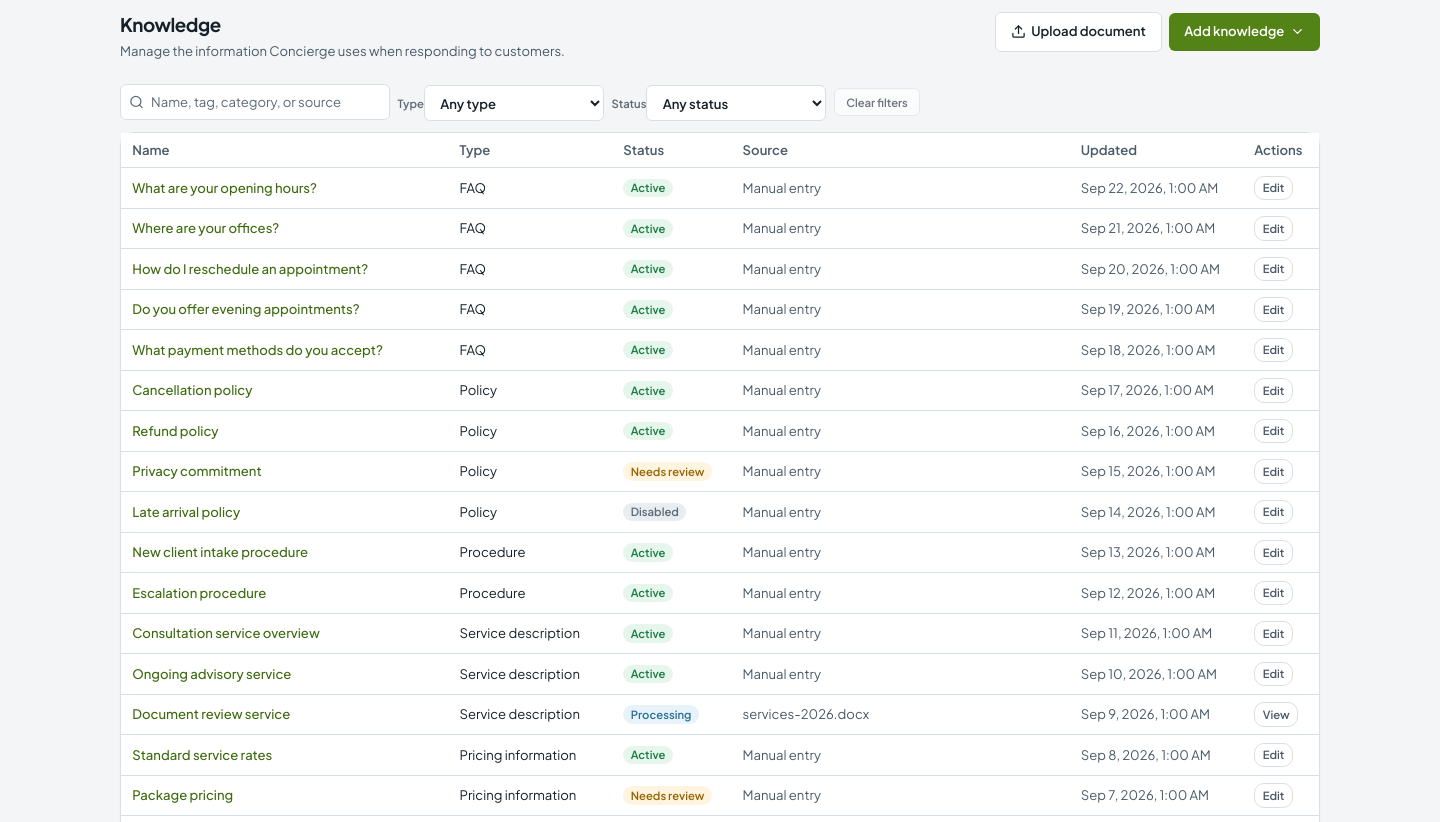
Test: KnowledgePage › narrows the list when a filter is applied
Select "Policy" in the dropdown labelled "Type" at {"x": 514, "y": 103}, box x1=424 y1=85 x2=604 y2=121
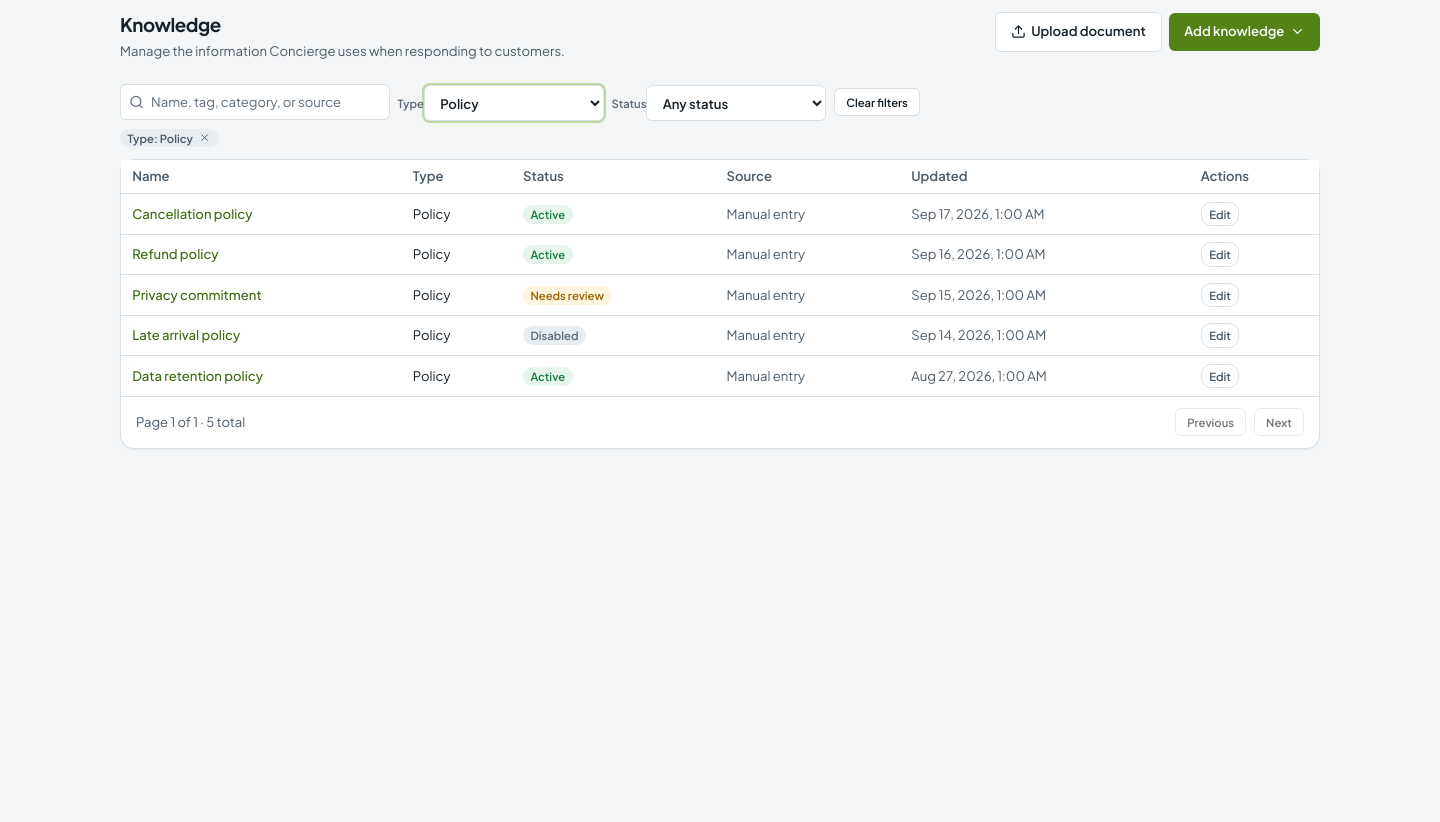
expect the text "Page 1 of 1 · 5 total" is shown: met, box x1=136 y1=413 x2=245 y2=432
